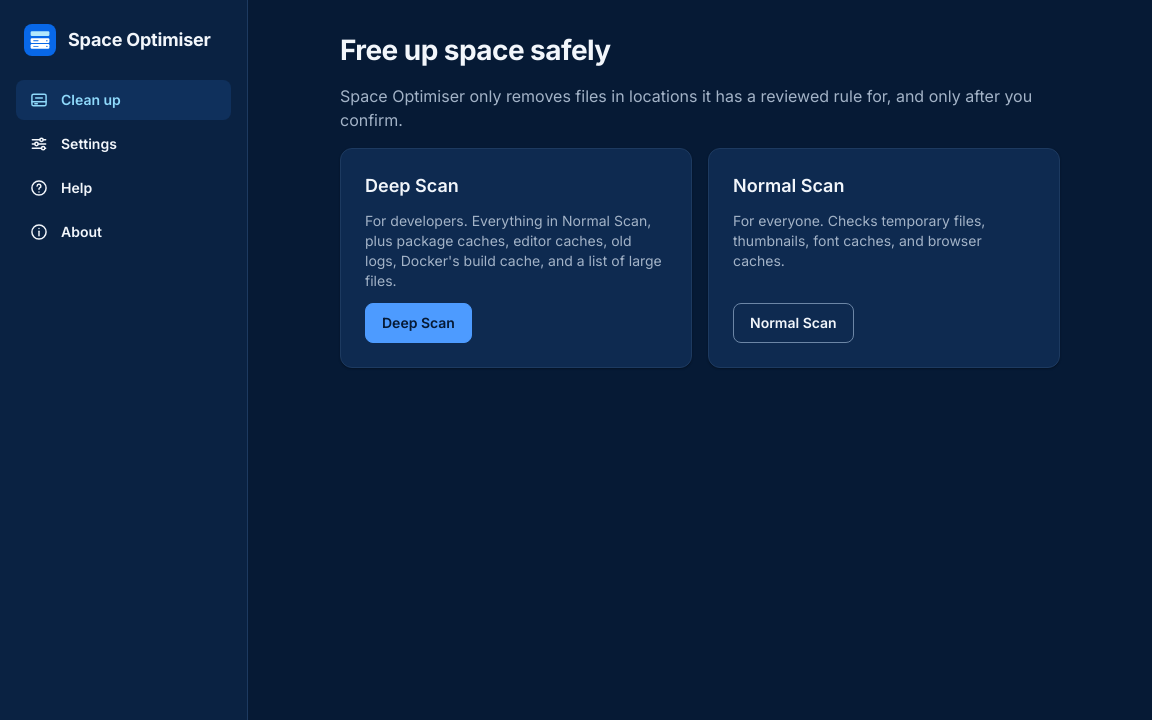
Test: scanning › names the stage it is in, the tool it is asking, and each stage's state
The width and height of the screenshot is (1152, 720).
What coordinates should you click on to do the following:
click the button "Deep Scan"
I would click on:
 (418, 323)
Its box is [365,303,472,343].
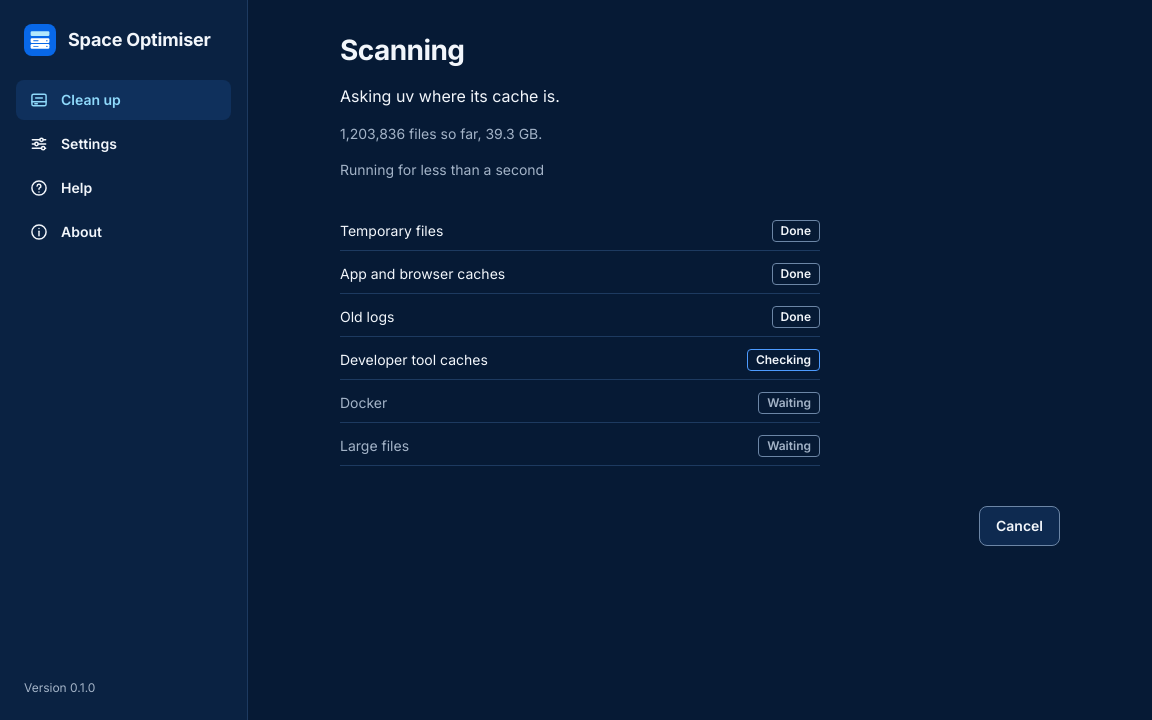
Check: the message reads "Asking uv where its cache is.", box [340,86,560,106]
Check: the text "1,203,836 files so far, 39.3 GB." is shown, box [340,125,542,142]
Check: the list items read "Temporary filesDone", "App and browser cachesDone", "Old logsDone", "Developer tool cachesChecking", "DockerWaiting", "Large filesWaiting", in this order, box [340,212,820,251]; [340,255,820,294]; [340,298,820,337]; [340,341,820,380]; [340,384,820,423]; [340,427,820,466]
